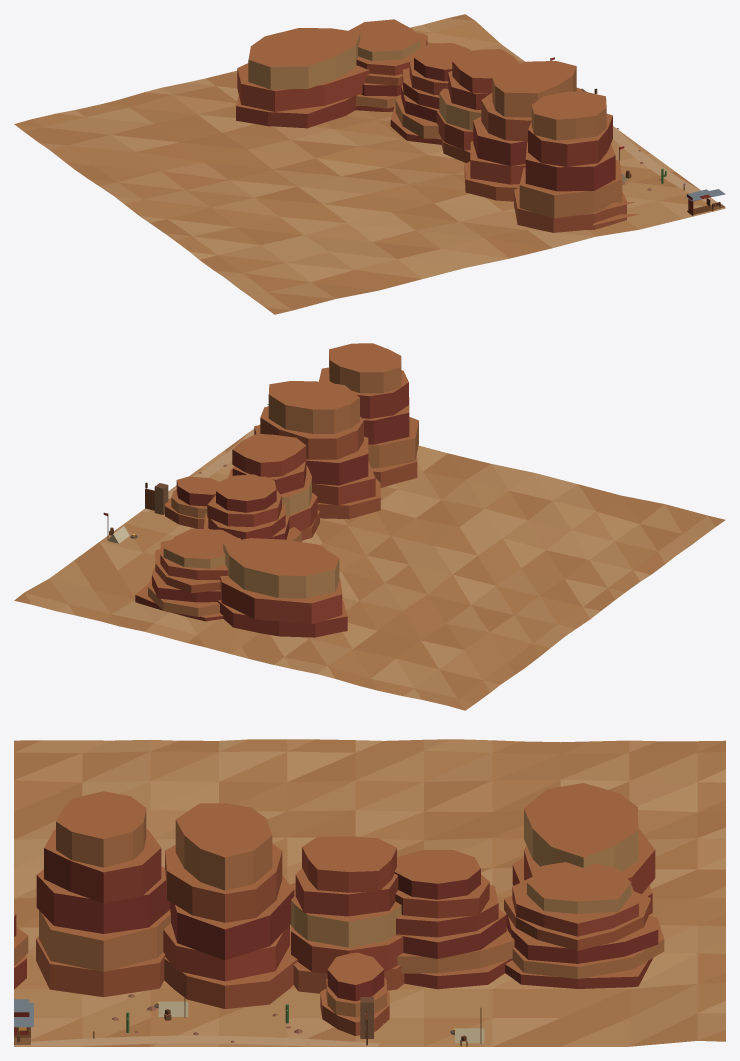
3 renders of one model, top to bottom at view 1: azimuth 30°, elevation 25°; view 2: azimuth 150°, elevation 25°; view 3: azimuth 270°, elevation 25°, orthographic. The views are drawn at different scales.
Parts seen in each view (by area): view 1: baked; view 2: baked; view 3: baked.
Boxes of the visible parts, x1,y1,x2,y2 form: baked: (14, 14, 725, 314); baked: (14, 343, 725, 710); baked: (14, 739, 725, 1046).
Bounding box in the file's own units: 125 × 28.97 × 125.
